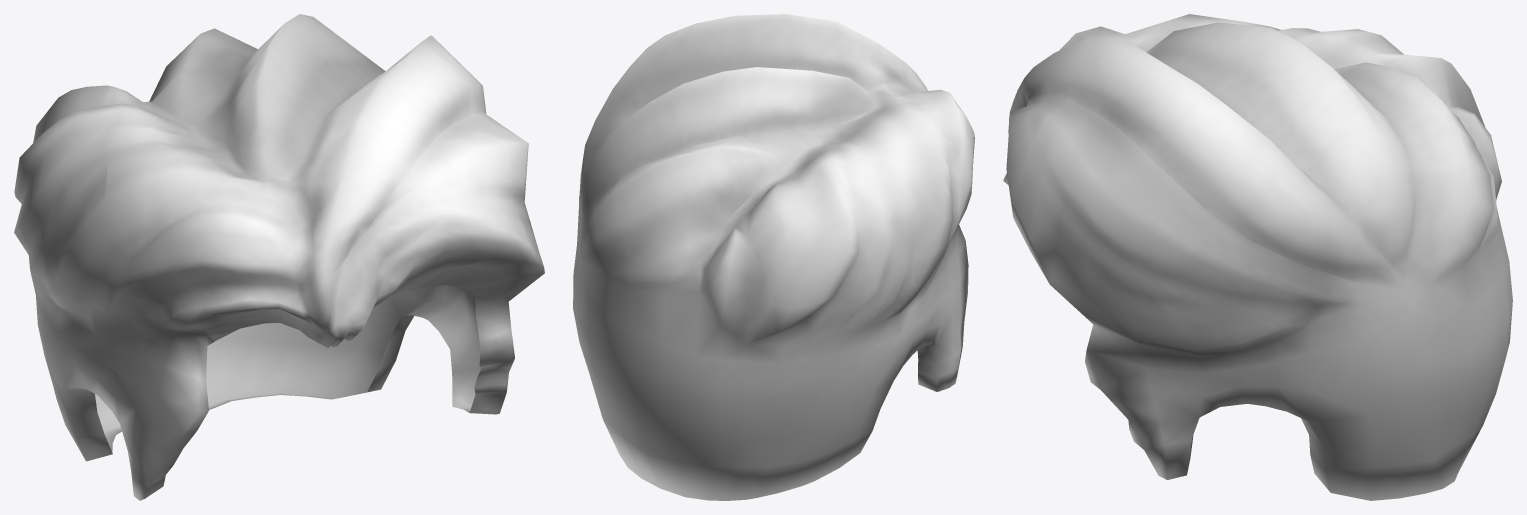
File: hair_simpleparted.glb
3 renders of one model, left to right at view 1: azimuth 30°, elevation 25°; view 2: azimuth 150°, elevation 25°; view 3: azimuth 270°, elevation 25°, orthographic. The views are drawn at different scales.
Parts seen in each view (by area): view 1: Hair_SimpleParted; view 2: Hair_SimpleParted; view 3: Hair_SimpleParted.
Part boxes in pixels (bbox=[...]): Hair_SimpleParted: bbox=[14, 14, 544, 500]; Hair_SimpleParted: bbox=[573, 14, 974, 500]; Hair_SimpleParted: bbox=[1003, 14, 1512, 500].
Size of the model in its own units: 0.1754 by 0.1792 by 0.1869.
Materials: 1 (1 with a texture image).
